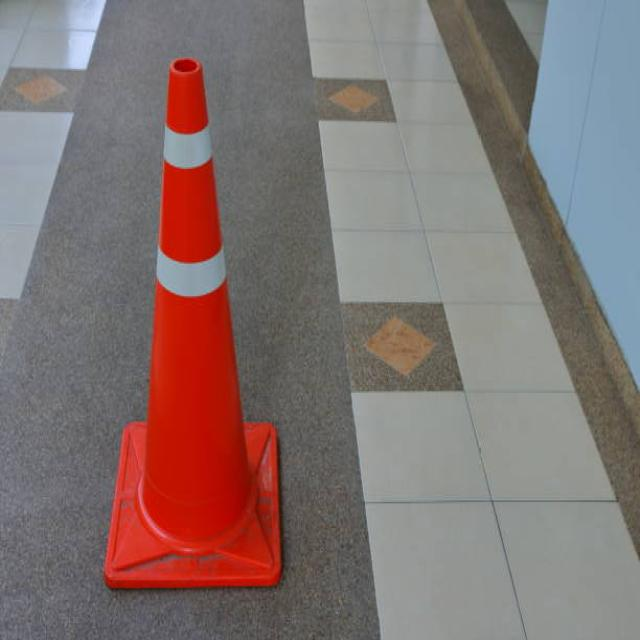Traffic Cone: (63, 25, 329, 618)
